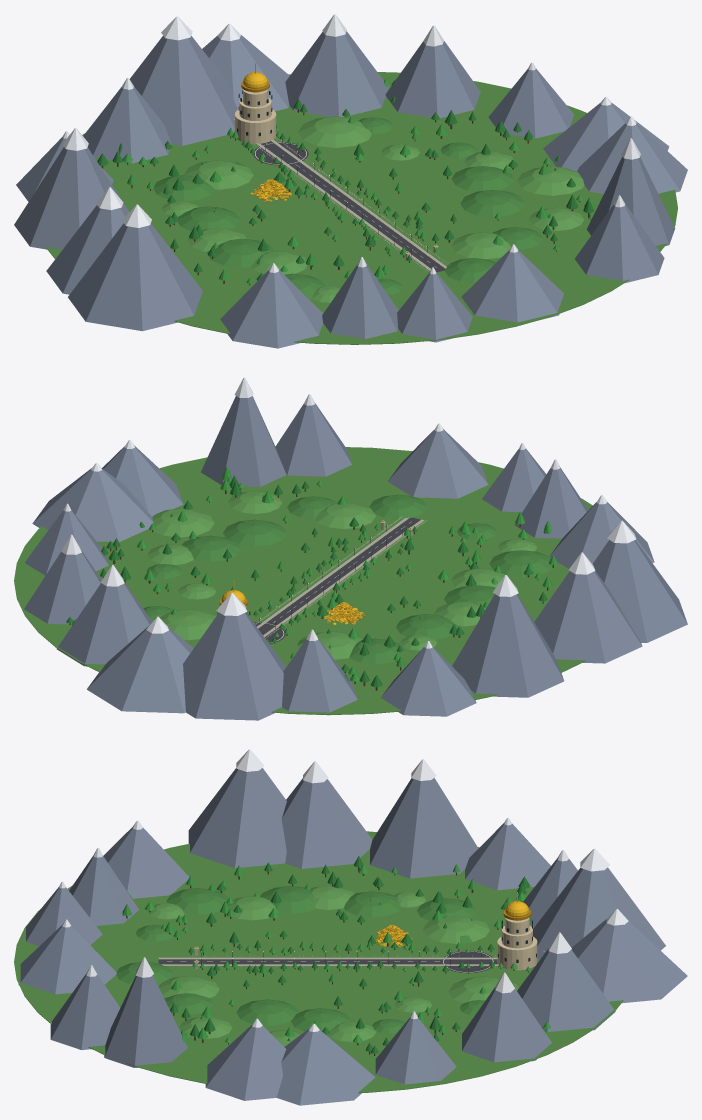
File: exterior.glb
The picture shows the model from 3 angles, top to bottom: view 1: azimuth 30°, elevation 25°; view 2: azimuth 150°, elevation 25°; view 3: azimuth 270°, elevation 25°; orthographic projection. The views are drawn at different scales.
Parts seen in each view (by area): view 1: e_mount, e_grass, e_hill, e_hill2, e_leaf, e_snow, e_leaf2, e_asphalt, e_wall, e_sidewalk, e_gold, e_trunk; view 2: e_mount, e_grass, e_hill2, e_hill, e_leaf, e_snow, e_leaf2, e_asphalt, e_sidewalk, e_gold; view 3: e_mount, e_grass, e_hill2, e_hill, e_leaf, e_snow, e_leaf2, e_asphalt, e_wall, e_sidewalk, e_gold.
Boxes of the visible parts, <box> form: e_mount: <box>14,31,687,348</box>; e_grass: <box>45,72,677,344</box>; e_hill: <box>161,116,584,302</box>; e_hill2: <box>153,117,542,299</box>; e_leaf: <box>97,79,593,280</box>; e_snow: <box>62,14,640,274</box>; e_leaf2: <box>122,79,595,295</box>; e_asphalt: <box>253,141,445,272</box>; e_wall: <box>234,89,276,143</box>; e_sidewalk: <box>256,139,446,270</box>; e_gold: <box>243,63,436,253</box>; e_trunk: <box>101,109,590,285</box>; e_mount: <box>24,396,687,720</box>; e_grass: <box>14,447,592,714</box>; e_hill2: <box>143,494,552,664</box>; e_hill: <box>147,491,537,659</box>; e_leaf: <box>66,475,550,687</box>; e_snow: <box>61,377,636,648</box>; e_leaf2: <box>71,466,557,681</box>; e_asphalt: <box>253,517,420,643</box>; e_sidewalk: <box>257,517,424,637</box>; e_gold: <box>221,520,411,624</box>; e_mount: <box>18,768,687,1105</box>; e_grass: <box>14,831,623,1093</box>; e_hill2: <box>116,886,484,1033</box>; e_hill: <box>147,885,518,1046</box>; e_leaf: <box>130,855,546,1053</box>; e_snow: <box>59,749,628,1031</box>; e_leaf2: <box>122,864,550,1043</box>; e_asphalt: <box>158,950,537,973</box>; e_wall: <box>497,917,537,970</box>; e_sidewalk: <box>158,957,536,965</box>; e_gold: <box>195,892,529,961</box>.
Bounding box in the file's own units: 309 × 66.31 × 303.
19 materials, 2 textured.
